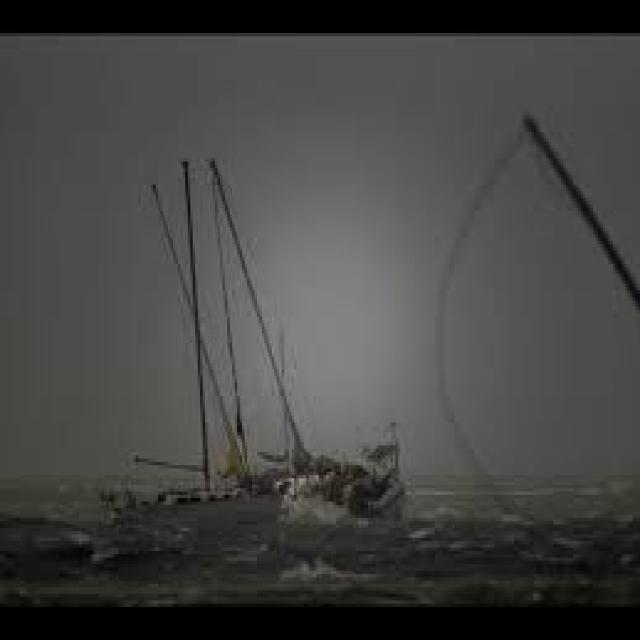fishing boat: (116, 122, 424, 532)
